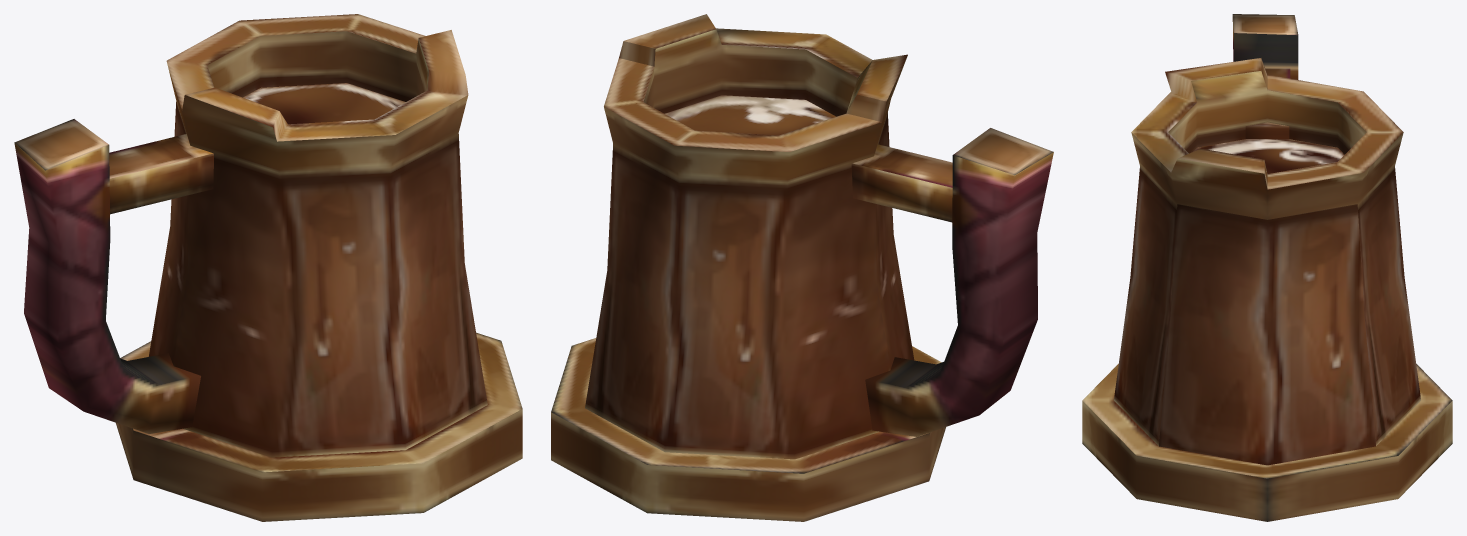
The model's file is Mug_01.glb.
The picture shows the model from 3 angles, left to right: view 1: azimuth 30°, elevation 25°; view 2: azimuth 150°, elevation 25°; view 3: azimuth 270°, elevation 25°; orthographic projection. The views are drawn at different scales.
Visible parts, largest first — view 1: Mug_01; view 2: Mug_01; view 3: Mug_01.
Boxes of the visible parts, <box> form: Mug_01: <box>14,14,522,521</box>; Mug_01: <box>551,14,1053,521</box>; Mug_01: <box>1082,14,1452,521</box>.
Size of the model in its own units: 0.9038 by 0.6826 by 0.6983.
1 material, 1 textured.
